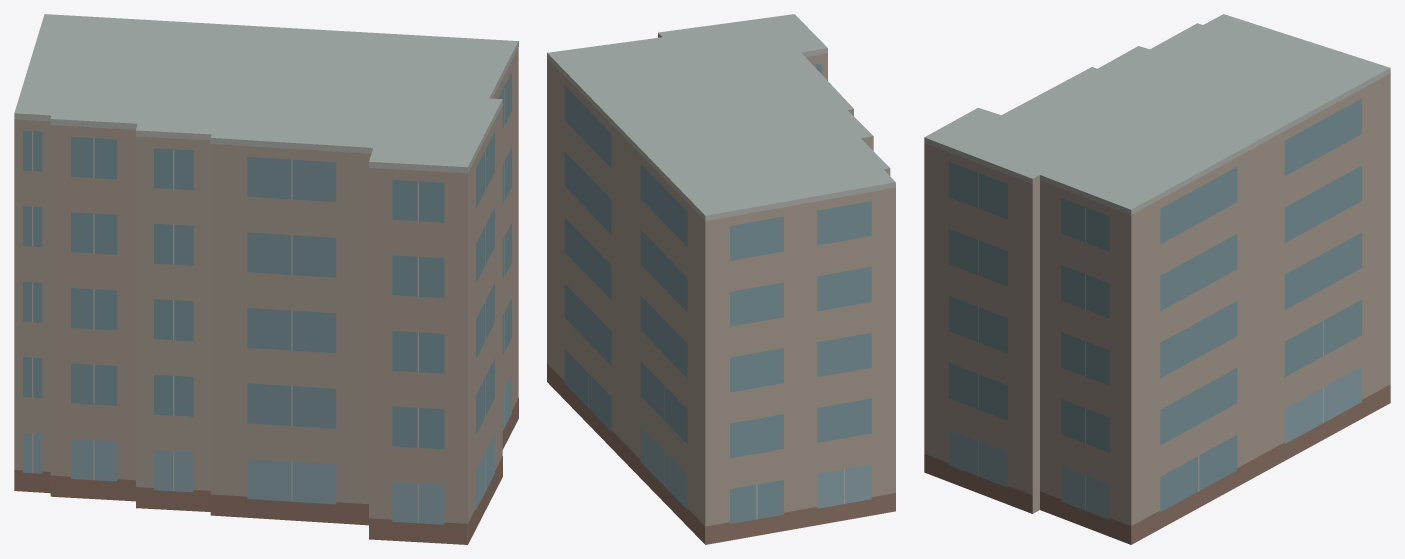
File: survey-upis-32763877.glb
3 views of the same model, side by side, from view 1: azimuth 30°, elevation 25°; view 2: azimuth 150°, elevation 25°; view 3: azimuth 270°, elevation 25° (orthographic). The views are drawn at different scales.
Parts seen in each view (by area): view 1: survey-upis-32763877.tmp; view 2: survey-upis-32763877.tmp; view 3: survey-upis-32763877.tmp.
Boxes of the visible parts, bbox=[...] form: survey-upis-32763877.tmp: bbox=[14, 14, 518, 544]; survey-upis-32763877.tmp: bbox=[547, 14, 895, 544]; survey-upis-32763877.tmp: bbox=[924, 14, 1390, 544].
Bounding box in the file's own units: 19.12 × 15.25 × 19.25.
